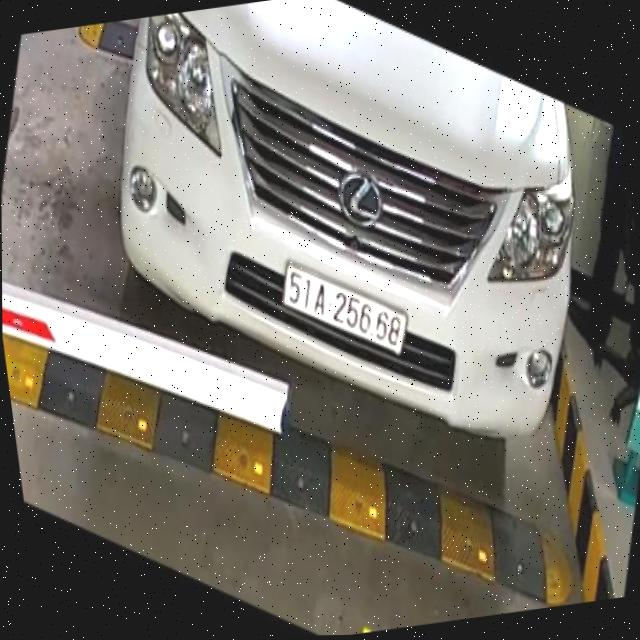car: (80, 0, 616, 501)
plate: (270, 239, 421, 378)
